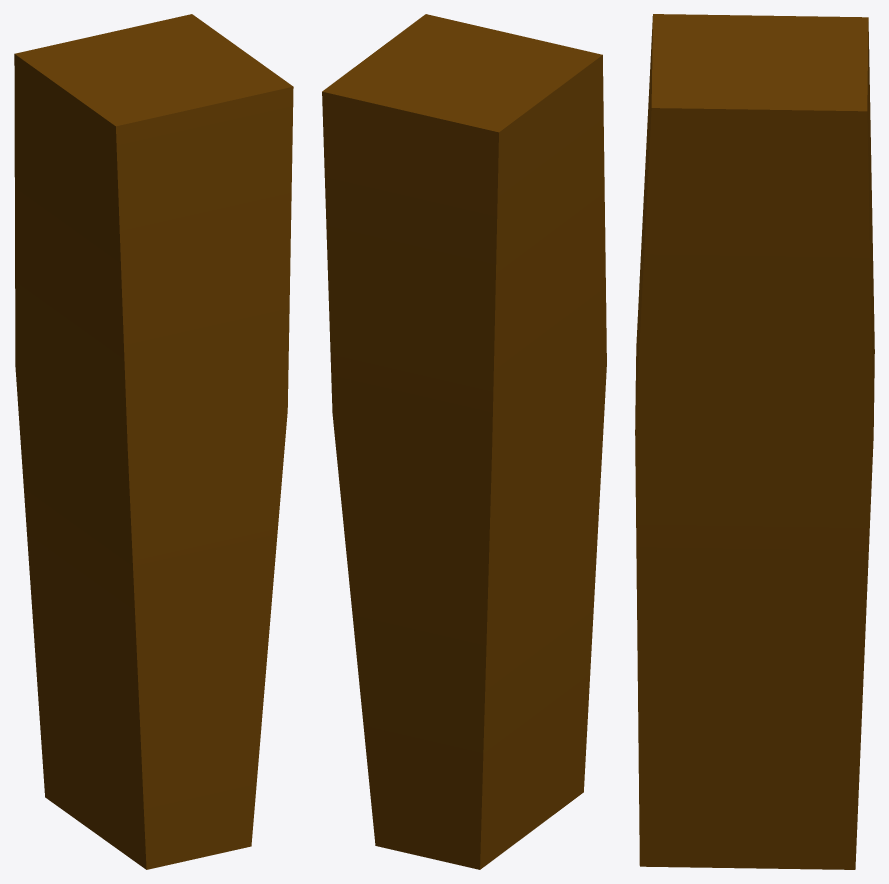
3 views of the same model, side by side, from view 1: azimuth 30°, elevation 25°; view 2: azimuth 150°, elevation 25°; view 3: azimuth 270°, elevation 25° (orthographic). The views are drawn at different scales.
Visible parts, largest first — view 1: 左33; view 2: 左33; view 3: 左33.
Boxes of the visible parts, left/top/right/bottom form: 左33: left=14, top=14, right=293, bottom=869; 左33: left=322, top=14, right=606, bottom=869; 左33: left=635, top=14, right=874, bottom=869.
Bounding box in the file's own units: 13.59 × 54.66 × 15.05.
